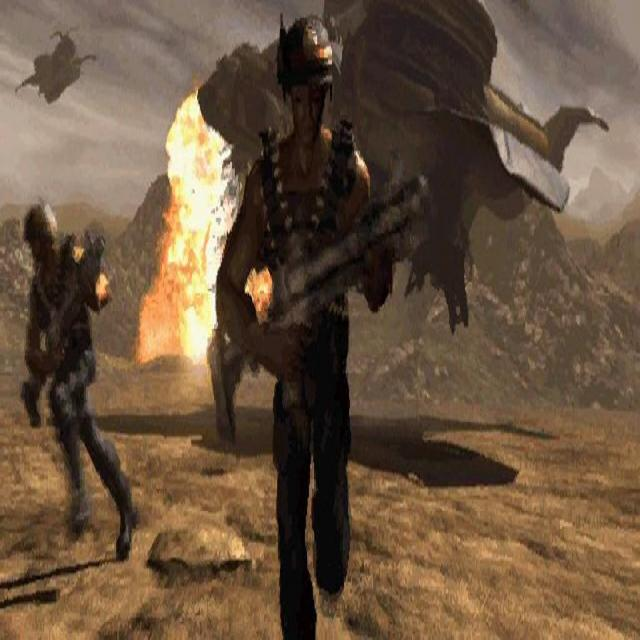nomask: (291, 74, 321, 142), (28, 234, 40, 260)
